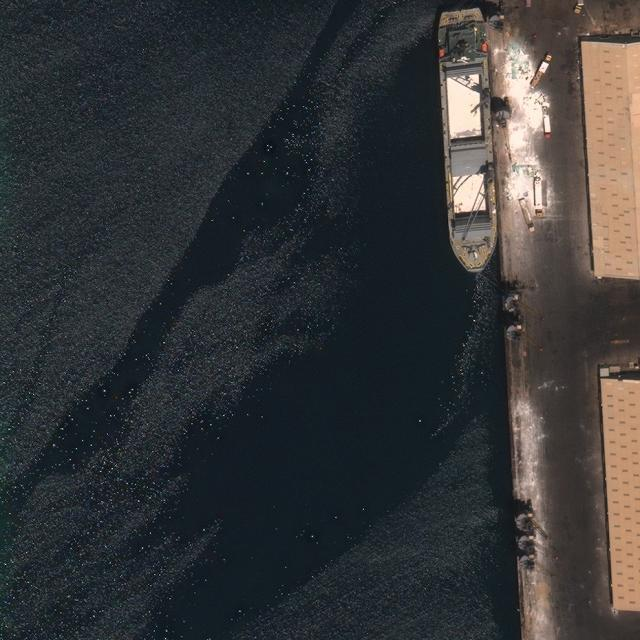Cargo: (435, 9, 501, 277)
